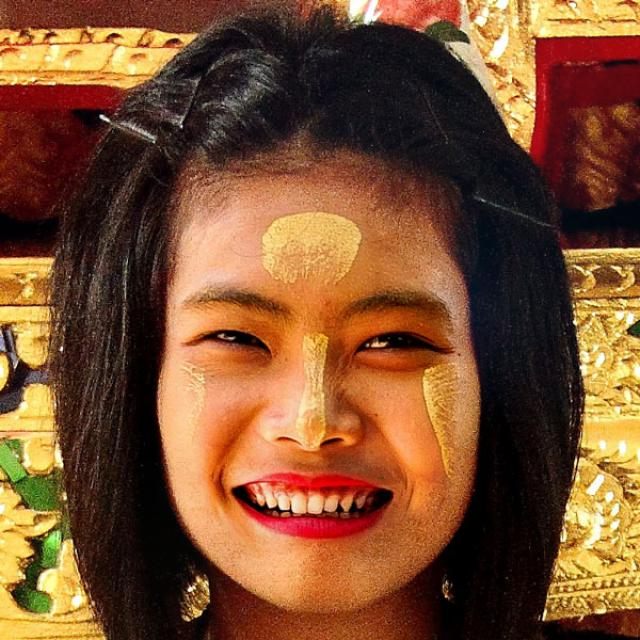face: (151, 154, 511, 603)
